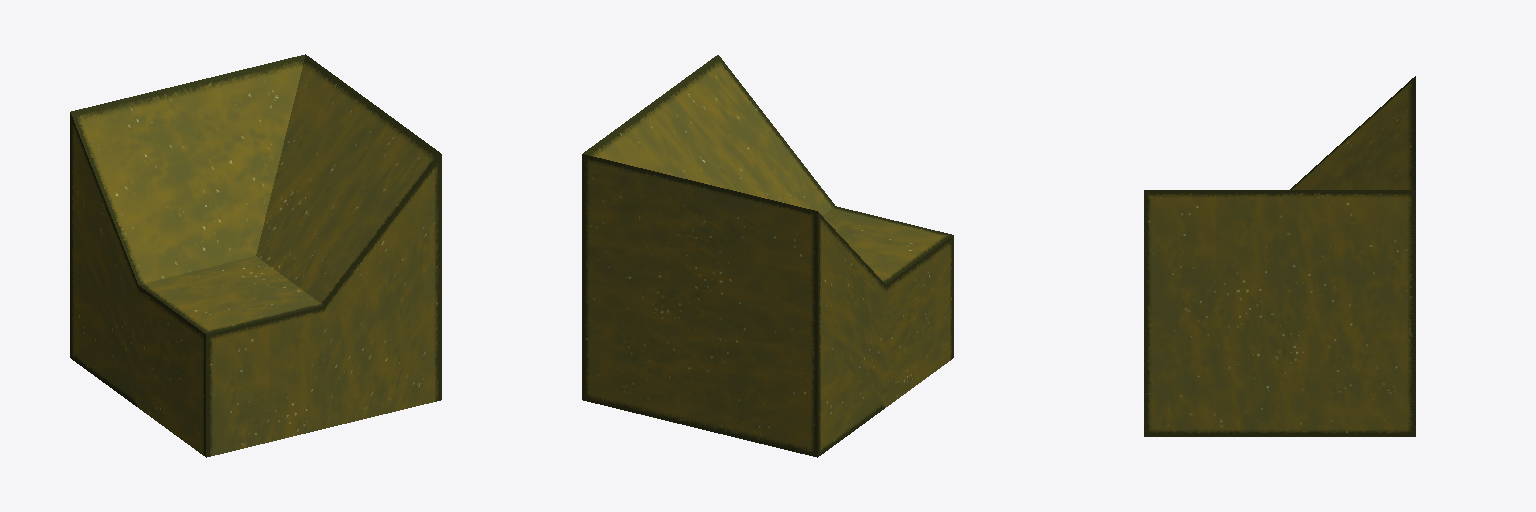
3 views of the same model, side by side, from view 1: azimuth 30°, elevation 25°; view 2: azimuth 150°, elevation 25°; view 3: azimuth 270°, elevation 25° (orthographic).
Visible parts, largest first — view 1: 8_path; view 2: 8_path; view 3: 8_path.
Boxes of the visible parts, <box> form: 8_path: <box>70,54,441,457</box>; 8_path: <box>582,55,953,457</box>; 8_path: <box>1144,76,1415,436</box>.
Bounding box in the file's own units: 1 × 1 × 1.
1 materials, 1 textured.